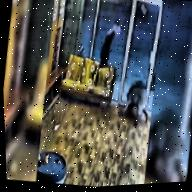boar: (120, 66, 167, 130)
